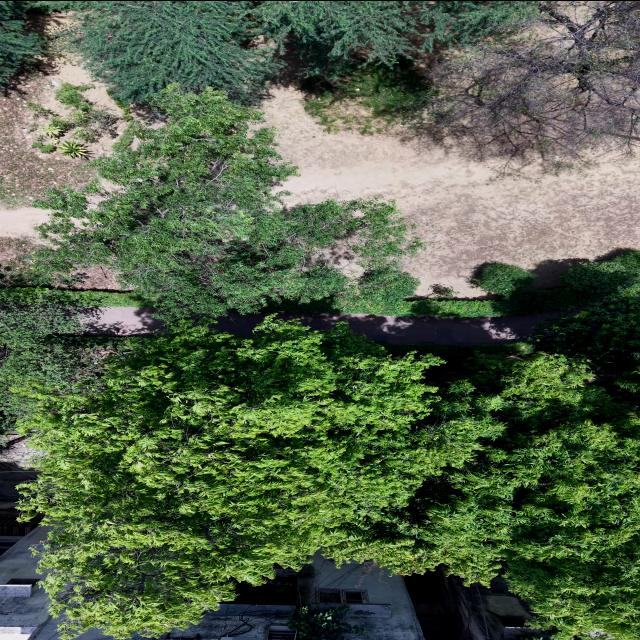DRY_AREA: (263, 86, 639, 297), (0, 56, 130, 264), (0, 60, 125, 207), (277, 312, 558, 345)
VEGETATION_TREE: (0, 1, 639, 639), (12, 1, 639, 318), (11, 1, 637, 318), (19, 320, 639, 639), (20, 320, 470, 638), (58, 1, 639, 171), (76, 1, 639, 171), (19, 90, 420, 319), (324, 353, 639, 639), (301, 350, 623, 582), (302, 1, 639, 172), (0, 1, 539, 104), (61, 1, 545, 104), (69, 1, 537, 101), (248, 1, 537, 132), (429, 1, 639, 173), (263, 251, 639, 317), (264, 251, 639, 317), (265, 251, 639, 317), (69, 1, 281, 104), (0, 287, 144, 434), (247, 1, 537, 73), (0, 289, 135, 434), (1, 287, 134, 428), (375, 251, 639, 317), (248, 1, 422, 73), (535, 252, 639, 367), (0, 90, 95, 208), (301, 58, 436, 134), (264, 288, 594, 317), (26, 83, 131, 158), (536, 295, 640, 366), (0, 1, 85, 87), (419, 1, 537, 47), (559, 251, 639, 303), (332, 265, 418, 313), (0, 1, 45, 87), (54, 102, 128, 142), (1, 287, 138, 308), (286, 606, 364, 639), (378, 299, 504, 317), (471, 263, 535, 296), (384, 342, 533, 356), (600, 367, 639, 405), (54, 83, 92, 109), (23, 1, 85, 13), (56, 141, 89, 158), (40, 122, 63, 138), (431, 285, 457, 298), (32, 142, 55, 153)
